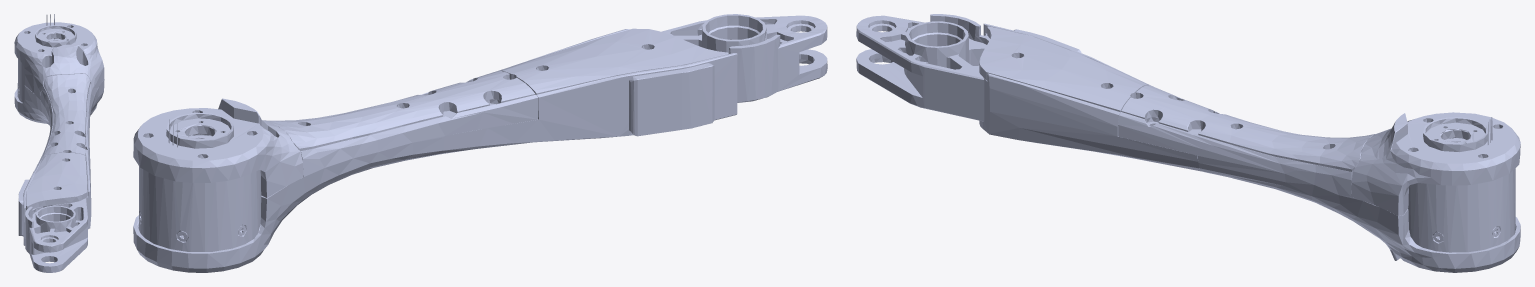
Rendered from SF_TRON1_knee_R_Link_visuals_knee_R_Link_mesh.obj.
3 views of the same model, side by side, from view 1: azimuth 30°, elevation 25°; view 2: azimuth 150°, elevation 25°; view 3: azimuth 270°, elevation 25° (orthographic). The views are drawn at different scales.
Bounding box in the file's own units: 0.2171 × 0.0789 × 0.3329.
